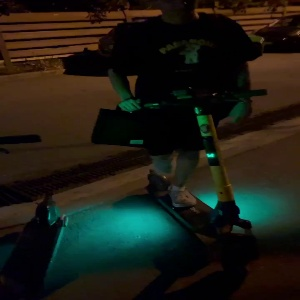human on a scooter: (89, 1, 271, 282)
